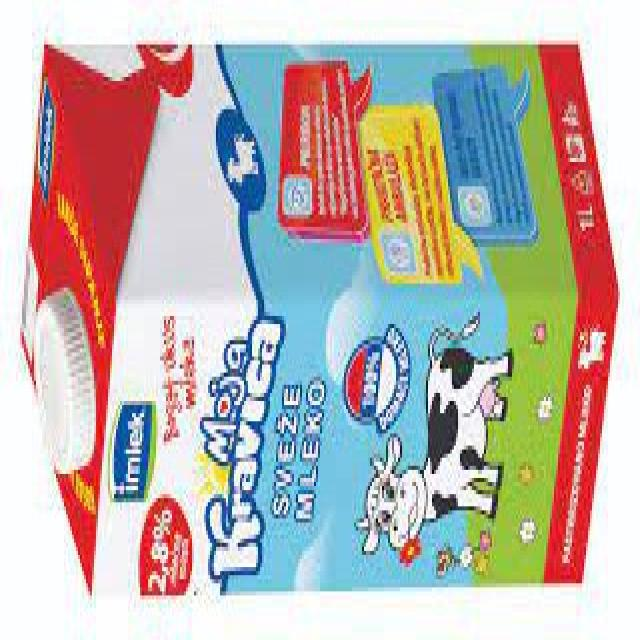non_white_jug: (18, 38, 621, 605)
